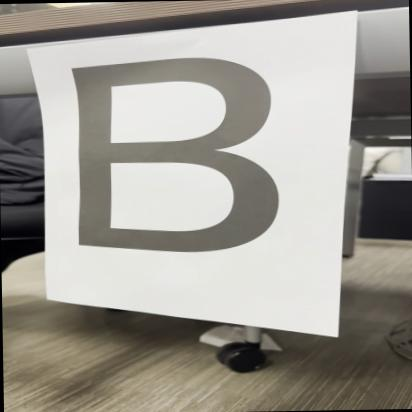seat: (50, 48, 302, 263)
